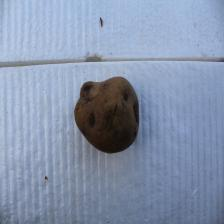Diseased-fungal potato: (72, 76, 141, 157)
